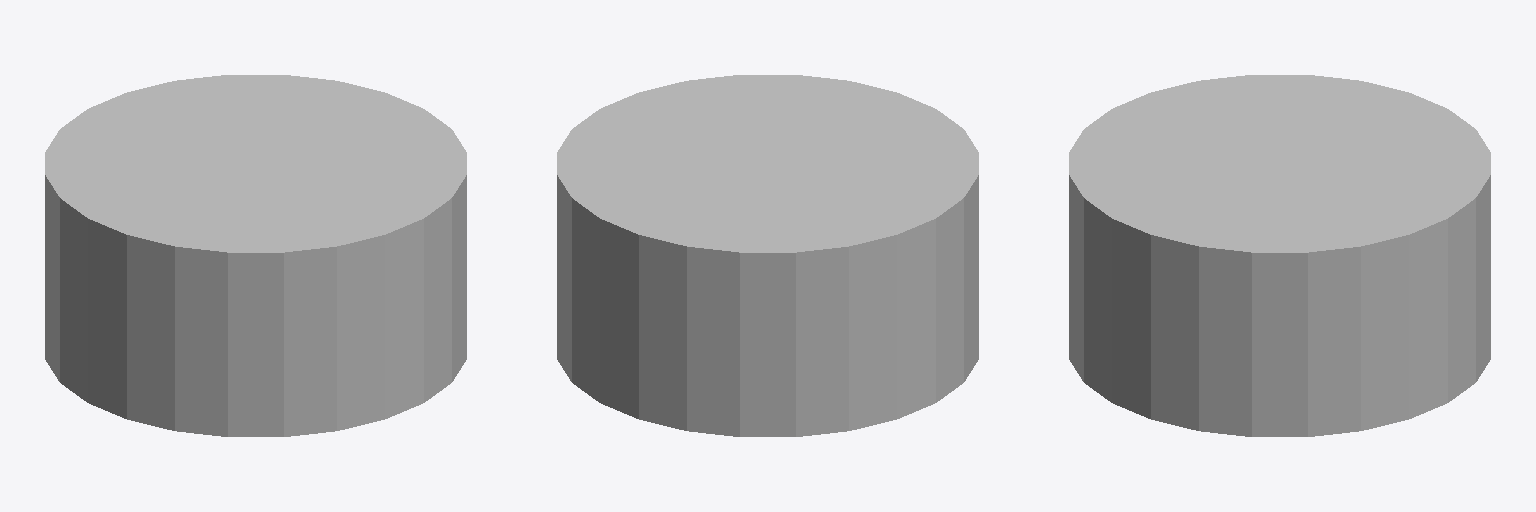
File: S1DecouplerCollider.obj
The picture shows the model from 3 angles: view 1: azimuth 30°, elevation 25°; view 2: azimuth 150°, elevation 25°; view 3: azimuth 270°, elevation 25°; orthographic projection.
Parts seen in each view (by area): view 1: S1DecouplerCollider; view 2: S1DecouplerCollider; view 3: S1DecouplerCollider.
Boxes of the visible parts, box(x1,y1,x2,y2) form: S1DecouplerCollider: box(45, 75, 466, 436); S1DecouplerCollider: box(557, 75, 978, 436); S1DecouplerCollider: box(1069, 75, 1490, 436).
Size of the model in its own units: 1.24 by 0.6 by 1.24.